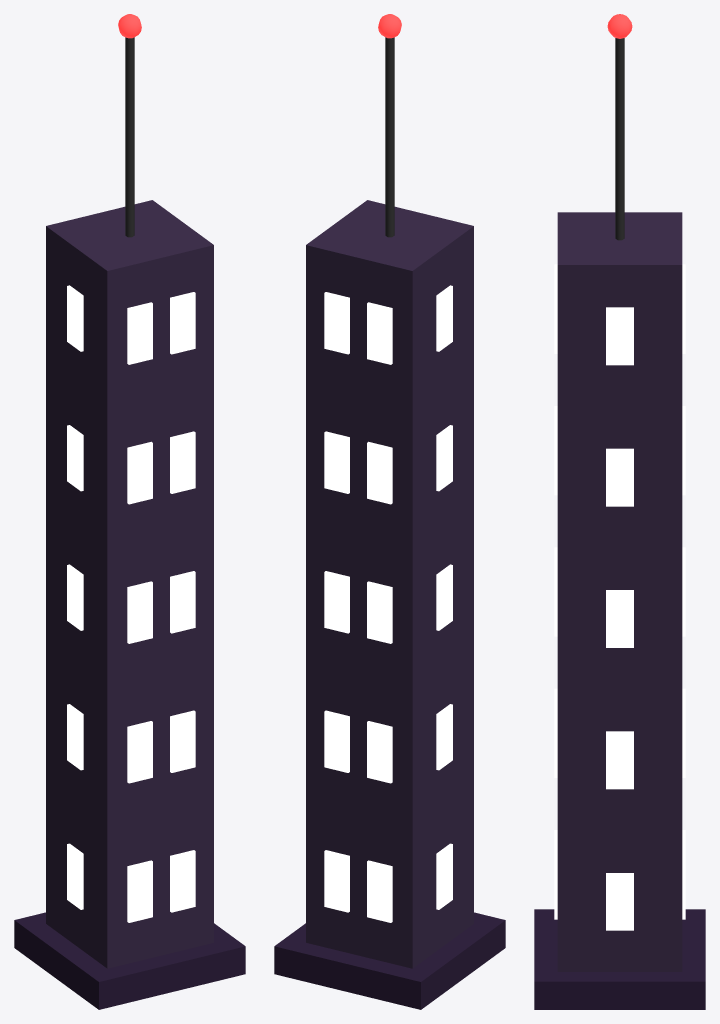
The model's file is building-database.glb.
3 renders of one model, left to right at view 1: azimuth 30°, elevation 25°; view 2: azimuth 150°, elevation 25°; view 3: azimuth 270°, elevation 25°, orthographic.
Visible parts, largest first — view 1: body, base, antenna, win-f-3-0, win-f-1-0, win-f-1-1, win-f-3-1, win-f-0-0, win-f-0-1, win-f-2-0, win-f-2-1, win-f-4-0 (+6 smaller); view 2: body, base, antenna, win-b-3-0, win-b-1-0, win-b-1-1, win-b-3-1, win-b-0-0, win-b-0-1, win-b-2-0, win-b-2-1, win-b-4-0 (+6 smaller); view 3: body, base, antenna, win-r-1, win-r-3, win-r-4, win-r-0, win-r-2, signal-light.
Boxes of the visible parts, x1,y1,x2,y2 form: body: (46,200,213,968); base: (14,912,245,1009); antenna: (125,37,134,237); win-f-3-0: (127,441,152,504); win-f-1-0: (127,721,152,783); win-f-1-1: (170,710,195,772); win-f-3-1: (170,431,195,493); win-f-0-0: (127,860,152,922); win-f-0-1: (170,850,195,912); win-f-2-0: (127,581,152,643); win-f-2-1: (170,571,195,633); win-f-4-0: (127,302,152,364); body: (306,200,473,968); base: (274,912,505,1009); antenna: (385,37,394,237); win-b-3-0: (367,441,392,504); win-b-1-0: (367,721,392,783); win-b-1-1: (324,710,349,772); win-b-3-1: (324,431,349,493); win-b-0-0: (367,860,392,922); win-b-0-1: (324,850,349,912); win-b-2-0: (367,581,392,643); win-b-2-1: (324,571,349,633); win-b-4-0: (367,302,392,364); body: (557,212,682,971); base: (534,909,705,1009); antenna: (615,38,624,240); win-r-1: (606,731,633,789); win-r-3: (606,448,633,506); win-r-4: (606,307,633,365); win-r-0: (606,873,633,930); win-r-2: (606,590,633,647); signal-light: (607,14,632,38).
Size of the model in its own units: 1.1 by 6.78 by 1.1.
